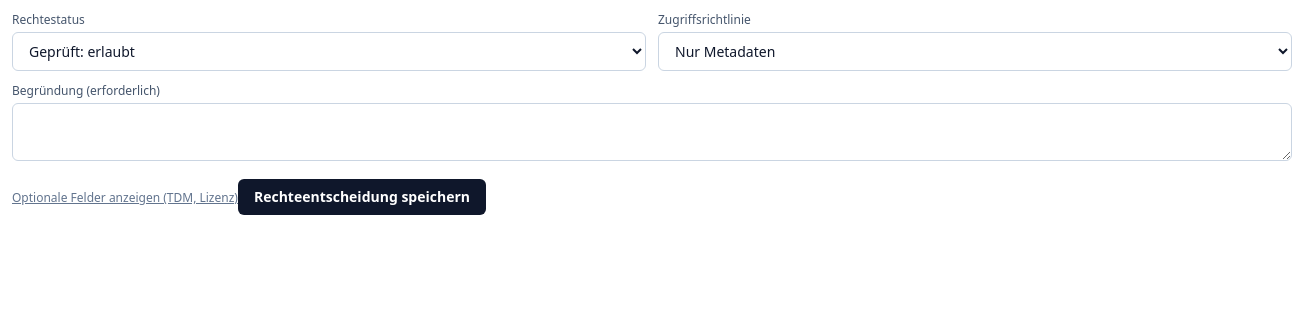
Test: RightsDecisionForm › displays a backend validation error returned by the action, without crashing
Type "Testbegründung" into the text box labelled "Begründung (erforderlich)" at point(652, 132), box [12,103,1292,161]
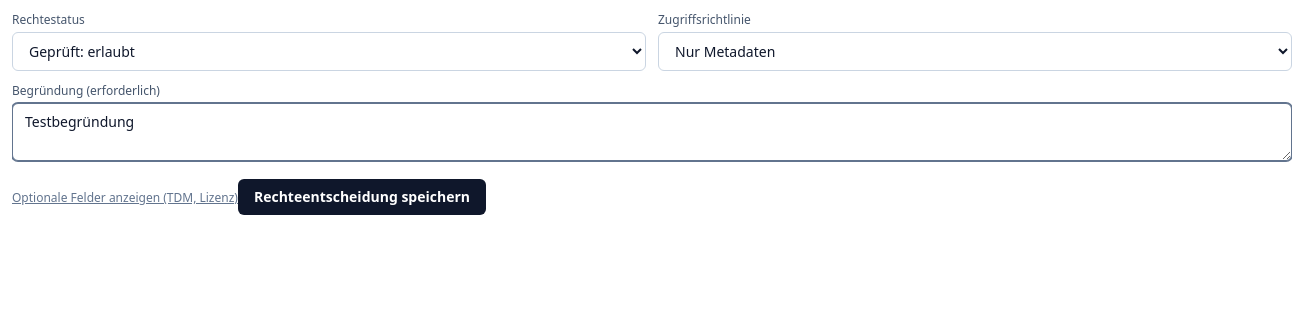
Click the button "Rechteentscheidung speichern" at point(362, 197), box [238,179,486,215]
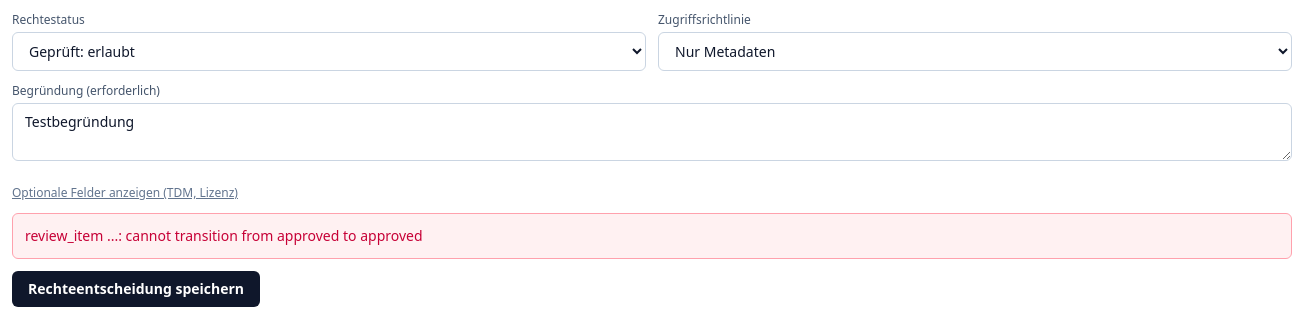
Check: the message shows "cannot transition from approved to approved", box [25,226,423,245]
